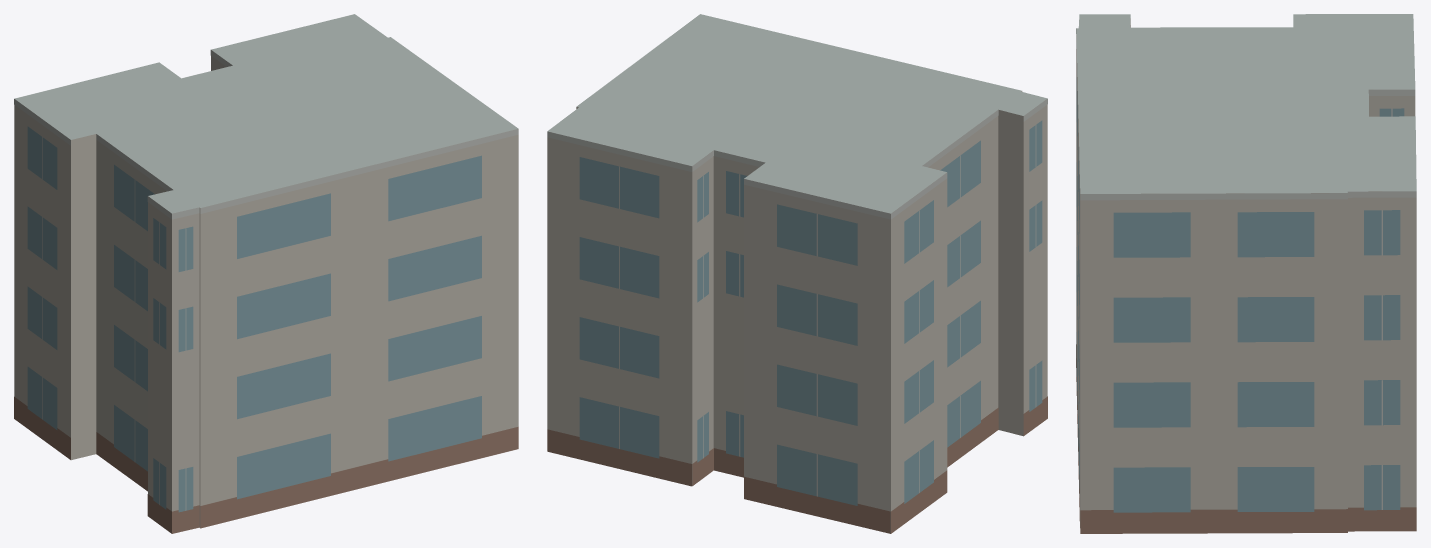
Rendered from survey-upis-32840884.glb.
3 renders of one model, left to right at view 1: azimuth 30°, elevation 25°; view 2: azimuth 150°, elevation 25°; view 3: azimuth 270°, elevation 25°, orthographic. The views are drawn at different scales.
Visible parts, largest first — view 1: survey-upis-32840884.tmp; view 2: survey-upis-32840884.tmp; view 3: survey-upis-32840884.tmp.
Boxes of the visible parts, x1,y1,x2,y2 form: survey-upis-32840884.tmp: (14, 14, 518, 533); survey-upis-32840884.tmp: (547, 14, 1047, 533); survey-upis-32840884.tmp: (1076, 14, 1416, 533).
Size of the model in its own units: 15 by 13.2 by 11.99.
